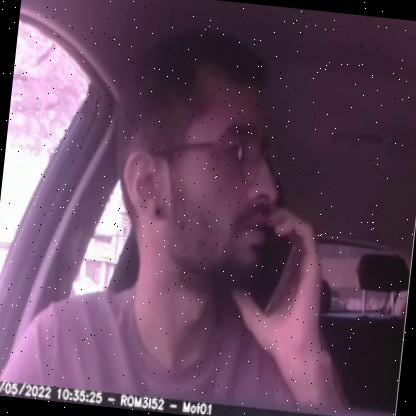phone: (239, 214, 310, 314)
